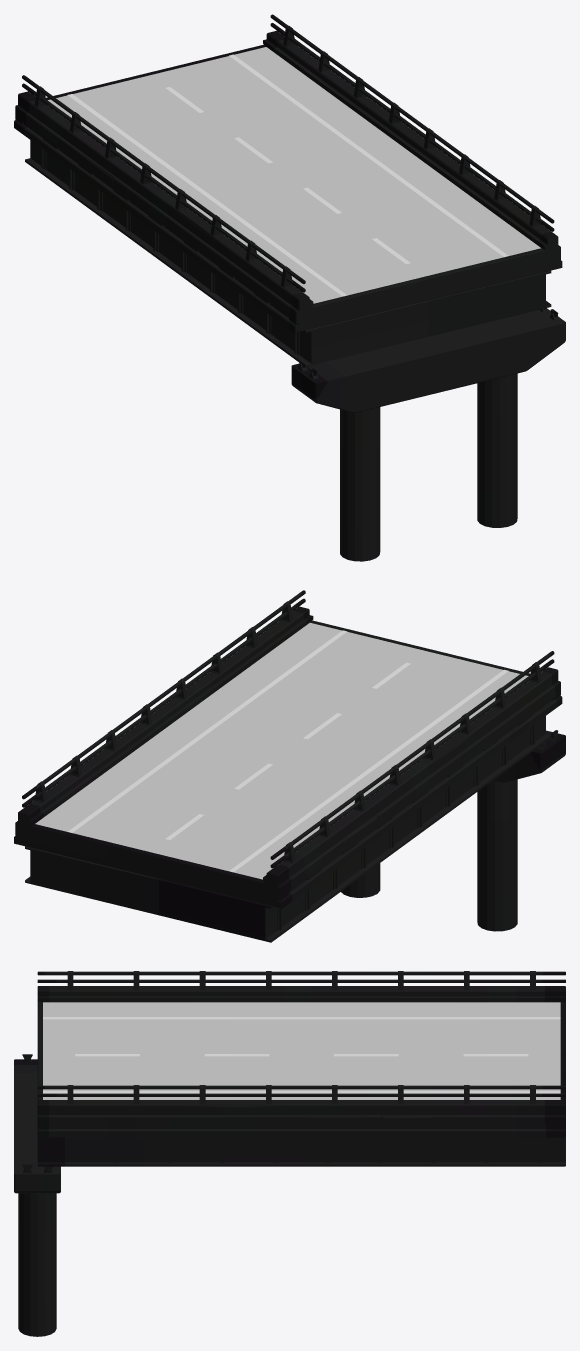
The model's file is Highway_Segment00.fbx.
The picture shows the model from 3 angles, top to bottom: view 1: azimuth 30°, elevation 25°; view 2: azimuth 150°, elevation 25°; view 3: azimuth 270°, elevation 25°; orthographic projection. The views are drawn at different scales.
Visible parts, largest first — view 1: SM_City_Highway_Segment_01a.mo; view 2: SM_City_Highway_Segment_01a.mo; view 3: SM_City_Highway_Segment_01a.mo.
Boxes of the visible parts, x1,y1,x2,y2 form: SM_City_Highway_Segment_01a.mo: (14,14,565,561); SM_City_Highway_Segment_01a.mo: (14,590,565,942); SM_City_Highway_Segment_01a.mo: (14,971,565,1336).
Bounding box in the file's own units: 1100 × 1123 × 2089.
